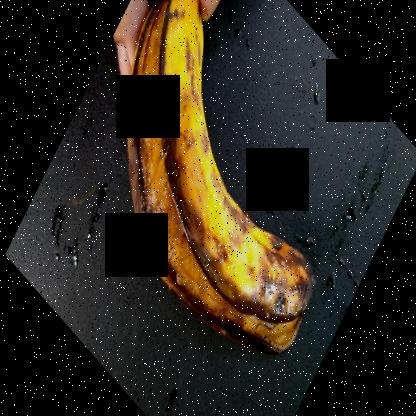rotten: (111, 0, 319, 364)
